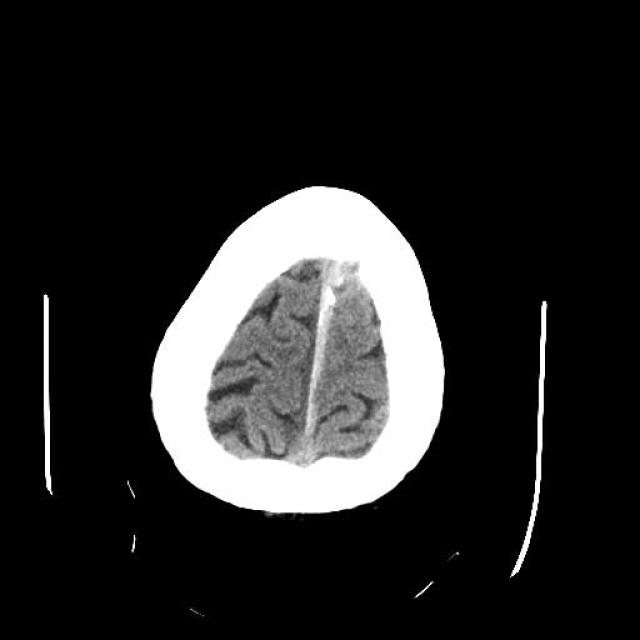Subdural: (283, 260, 372, 460)
